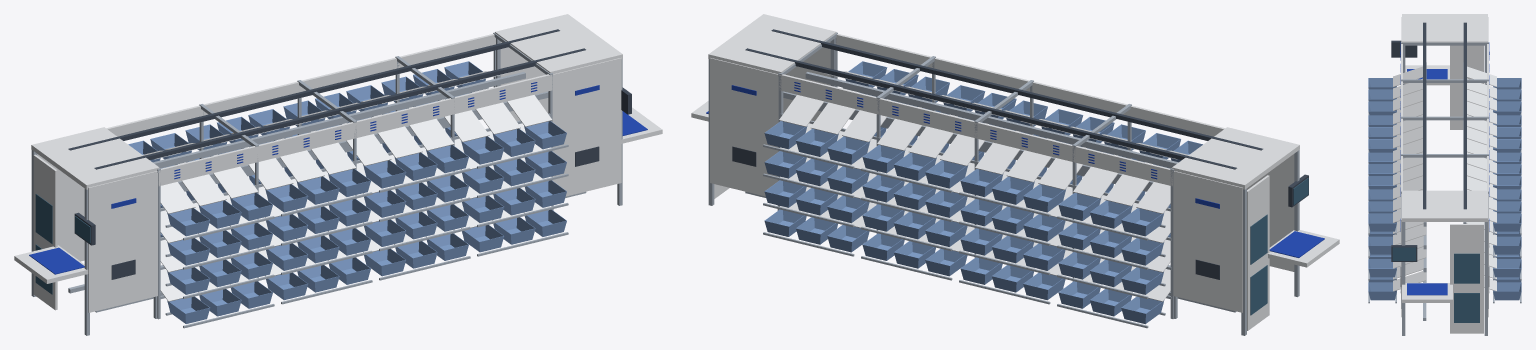
Rendered from SM_MPR_Tiangong96_LOD2.fbx.
3 views of the same model, side by side, from view 1: azimuth 30°, elevation 25°; view 2: azimuth 150°, elevation 25°; view 3: azimuth 270°, elevation 25° (orthographic). The views are drawn at different scales.
Visible parts, largest first — view 1: SM_MPR_Tiangong96_LOD2; view 2: SM_MPR_Tiangong96_LOD2; view 3: SM_MPR_Tiangong96_LOD2.
Part boxes in pixels (x1,y1,x2,y2): SM_MPR_Tiangong96_LOD2: (14, 14, 662, 335); SM_MPR_Tiangong96_LOD2: (691, 14, 1339, 335); SM_MPR_Tiangong96_LOD2: (1368, 14, 1521, 335).
Size of the model in its own units: 980 by 271 by 230.
